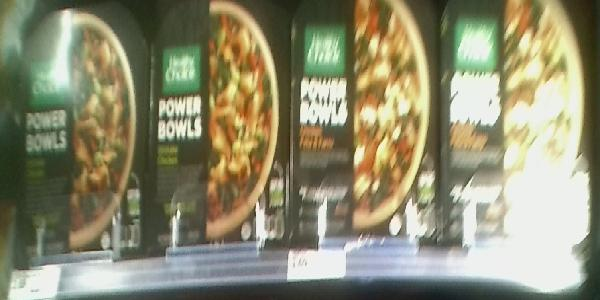pizza1: (290, 1, 441, 245), (148, 2, 297, 246), (11, 1, 148, 253), (443, 1, 575, 242)
